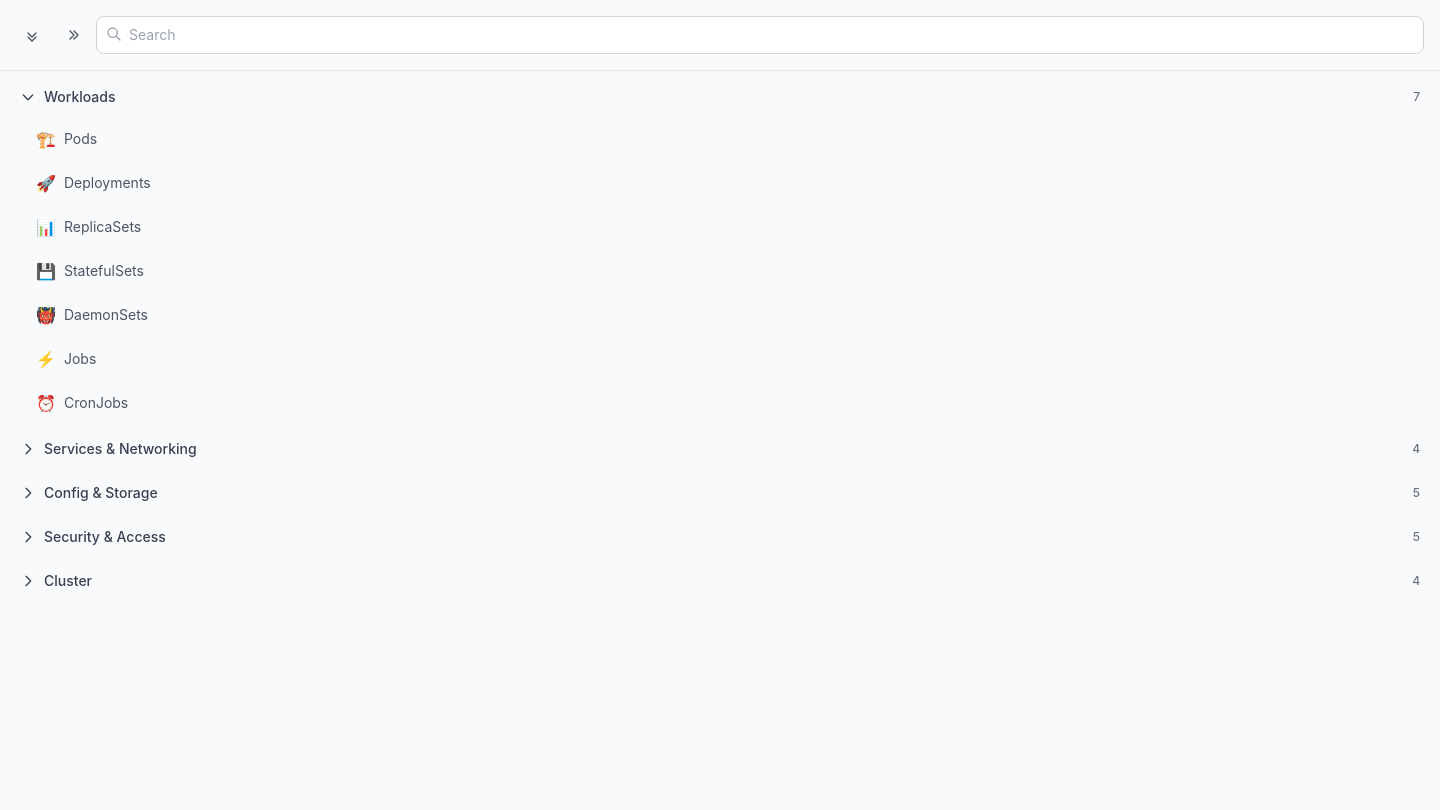
Scenario: ResourceTree › expandAll › should expand all categories when Expand All button is clicked
Click the button titled "Expand All" at {"x": 32, "y": 35}, box [16, 16, 48, 54]
(page scrolled)
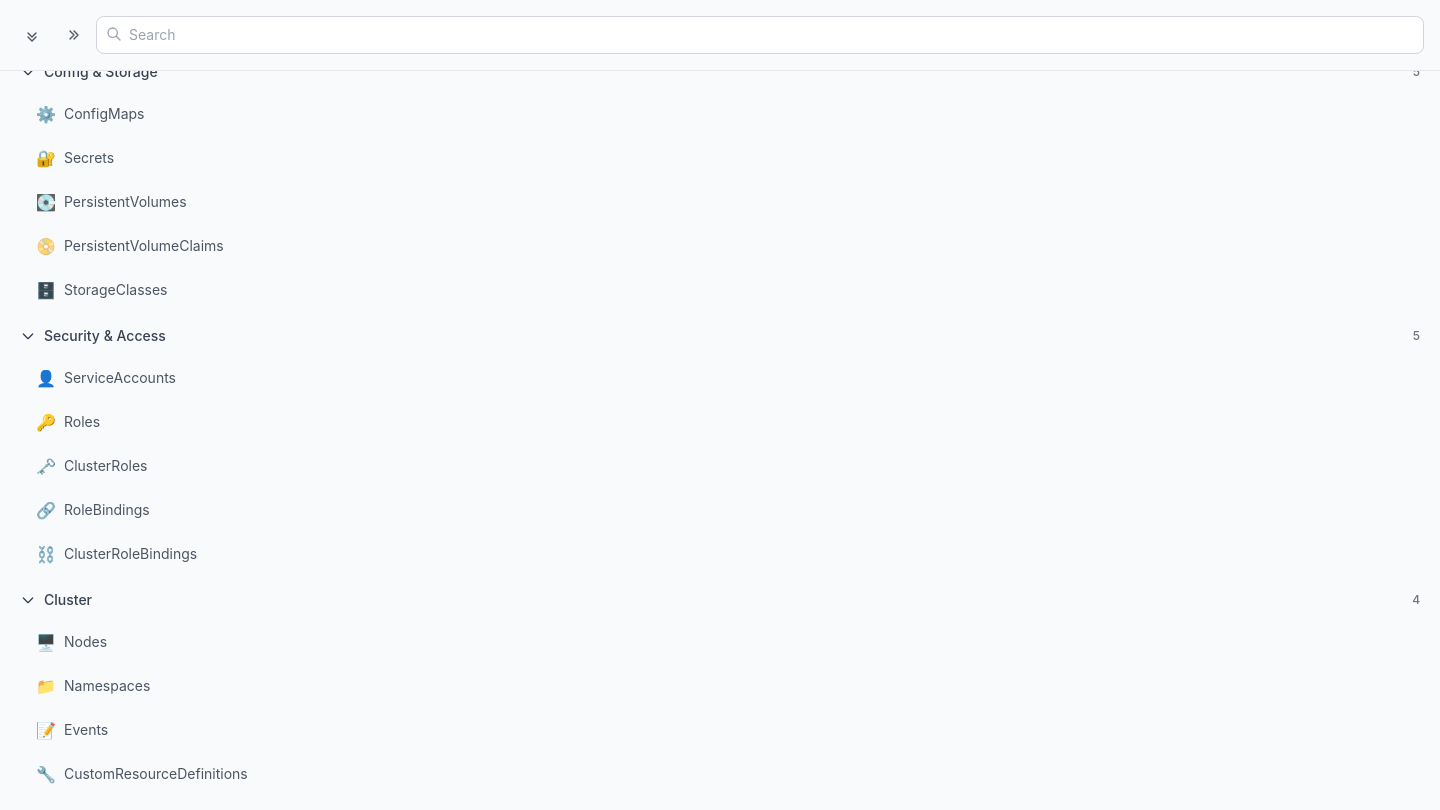
expect the text "ConfigMaps" is shown: met, box [64, 104, 144, 124]
expect the text "ServiceAccounts" is shown: met, box [64, 368, 176, 388]
expect the text "Nodes" is shown: met, box [64, 632, 107, 652]
